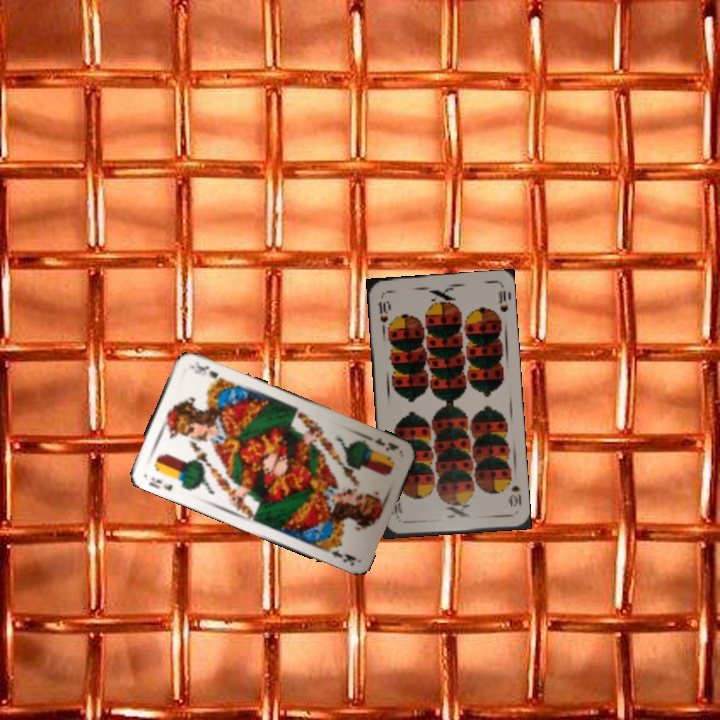EK: (363, 431, 401, 453), (144, 473, 175, 493)
S10: (505, 481, 524, 509), (374, 297, 391, 325)
